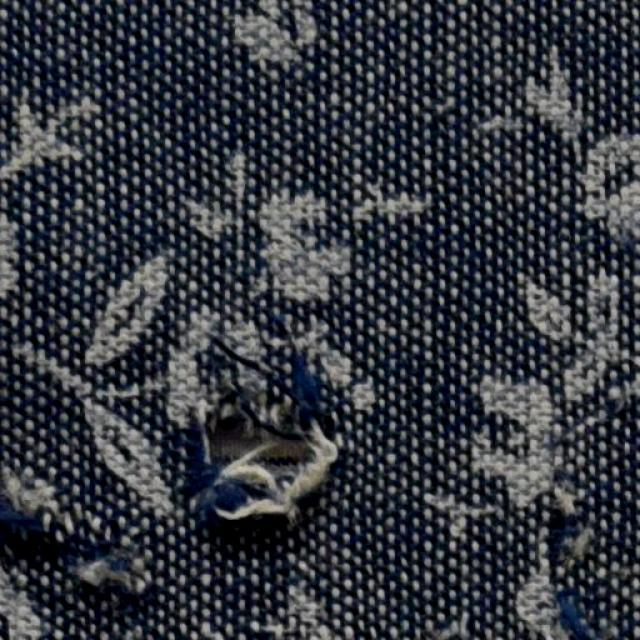Hole: (225, 417, 299, 479)
Snag: (187, 422, 340, 523), (215, 305, 337, 424), (539, 486, 590, 639), (4, 470, 89, 553), (78, 544, 143, 597)
